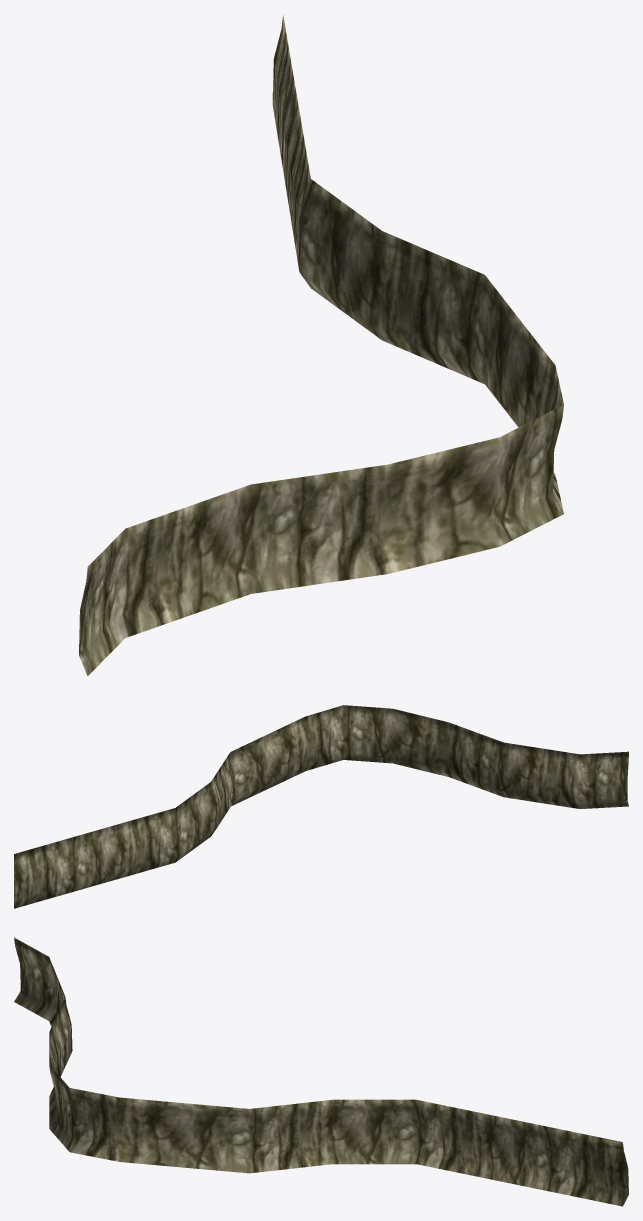
Rendered from CB_NEWPLAYSURFACE_CB_PLAYSURFACE117.fbx.
3 views of the same model, one above another, from view 1: azimuth 30°, elevation 25°; view 2: azimuth 150°, elevation 25°; view 3: azimuth 270°, elevation 25° (orthographic). The views are drawn at different scales.
Parts seen in each view (by area): view 1: CB_NEWPLAYSURFACE_CB_PLAYSURFACE117; view 2: CB_NEWPLAYSURFACE_CB_PLAYSURFACE117; view 3: CB_NEWPLAYSURFACE_CB_PLAYSURFACE117.
Part boxes in pixels (<box>): CB_NEWPLAYSURFACE_CB_PLAYSURFACE117: <box>79,15,563,675</box>; CB_NEWPLAYSURFACE_CB_PLAYSURFACE117: <box>14,705,628,908</box>; CB_NEWPLAYSURFACE_CB_PLAYSURFACE117: <box>14,937,628,1206</box>.
Bounding box in the file's own units: 273498 × 40000 × 345778.
Materials: 1 (1 with a texture image).
